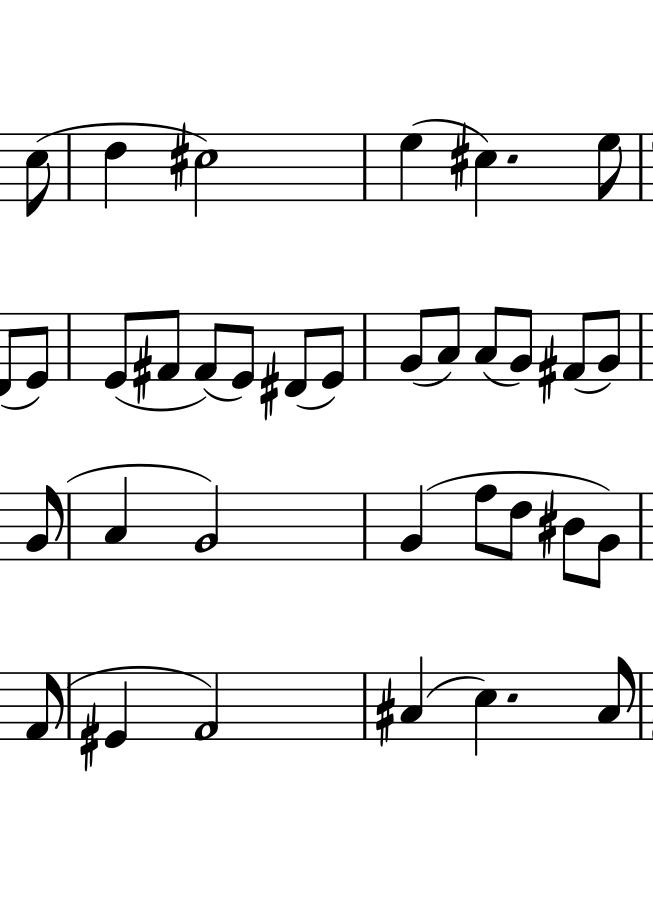2_1: (195, 671, 220, 740)
2_2: (192, 483, 221, 562)
2_5: (193, 132, 220, 218)
4_0: (104, 672, 128, 752)
4_3: (399, 655, 426, 739), (103, 479, 129, 560)
4_5: (472, 132, 499, 219), (472, 672, 498, 758)
4_6: (103, 136, 127, 210)
4_7: (398, 132, 424, 203)
8_-1: (284, 312, 315, 399)
8_0: (103, 311, 134, 392), (321, 311, 347, 393), (231, 312, 257, 392), (26, 312, 51, 392)
8_1: (24, 672, 65, 743), (193, 311, 225, 384), (562, 310, 593, 383), (157, 308, 182, 383)
8_2: (25, 484, 65, 561), (594, 491, 622, 591), (399, 485, 430, 561), (398, 308, 429, 381), (509, 307, 534, 382), (598, 308, 622, 382)
8_3: (596, 657, 635, 744), (473, 304, 504, 379), (436, 305, 461, 382)
8_4: (562, 491, 587, 585)
8_5: (23, 133, 51, 218)
8_6: (503, 494, 532, 562)
8_7: (597, 133, 626, 203)
8_8: (472, 484, 497, 563)
Sharp: (374, 676, 396, 748), (536, 495, 558, 560), (448, 129, 470, 193), (259, 352, 280, 418), (79, 708, 100, 772), (537, 339, 558, 402), (131, 341, 152, 403), (168, 132, 189, 193)
Single_barline: (634, 311, 653, 382), (632, 133, 652, 200), (62, 312, 80, 383), (357, 312, 375, 381), (357, 134, 373, 201), (635, 669, 650, 740), (62, 674, 78, 738), (357, 493, 372, 557), (634, 492, 648, 560), (358, 674, 372, 738), (61, 137, 75, 200), (62, 494, 76, 557)
Slur: (31, 118, 207, 144), (426, 469, 607, 492), (64, 461, 212, 485), (70, 664, 211, 687), (425, 675, 484, 700), (112, 398, 210, 411), (412, 371, 452, 388), (484, 370, 522, 387), (296, 395, 336, 411), (2, 396, 40, 411), (574, 381, 613, 395), (204, 387, 241, 401)
dot: (504, 151, 519, 166), (505, 691, 520, 705)
